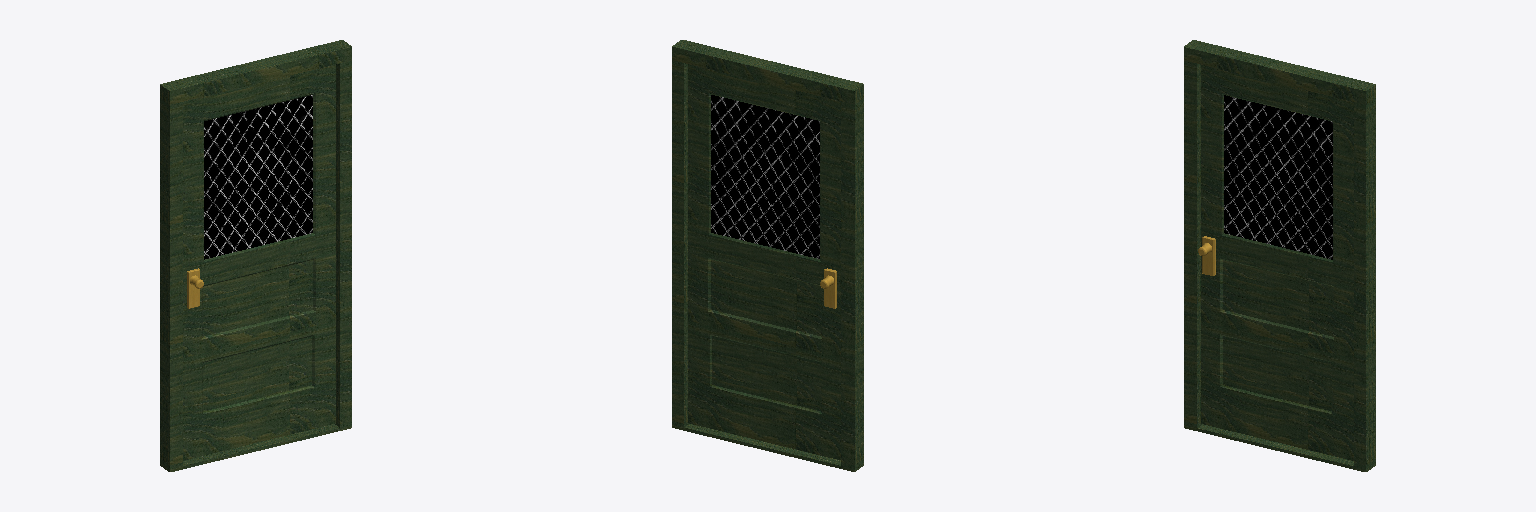
3 views of the same model, side by side, from view 1: azimuth 30°, elevation 25°; view 2: azimuth 150°, elevation 25°; view 3: azimuth 330°, elevation 25° (orthographic).
Visible parts, largest first — view 1: door, aldoor, Box001, doorhendle; view 2: door, aldoor, Box001, doorhendle; view 3: door, aldoor, Box001, doorhendle.
Part boxes in pixels (bbox=[...]): door: bbox=[183, 65, 335, 460]; aldoor: bbox=[160, 40, 351, 471]; Box001: bbox=[204, 95, 312, 259]; doorhendle: bbox=[187, 268, 203, 308]; door: bbox=[688, 64, 840, 459]; aldoor: bbox=[672, 40, 863, 471]; Box001: bbox=[711, 95, 819, 258]; doorhendle: bbox=[820, 268, 836, 308]; door: bbox=[1201, 65, 1353, 460]; aldoor: bbox=[1184, 40, 1375, 471]; Box001: bbox=[1224, 95, 1332, 259]; doorhendle: bbox=[1198, 236, 1215, 275].
Size of the model in its own units: 26.78 by 53.41 by 5.87.
3 materials, 3 textured.